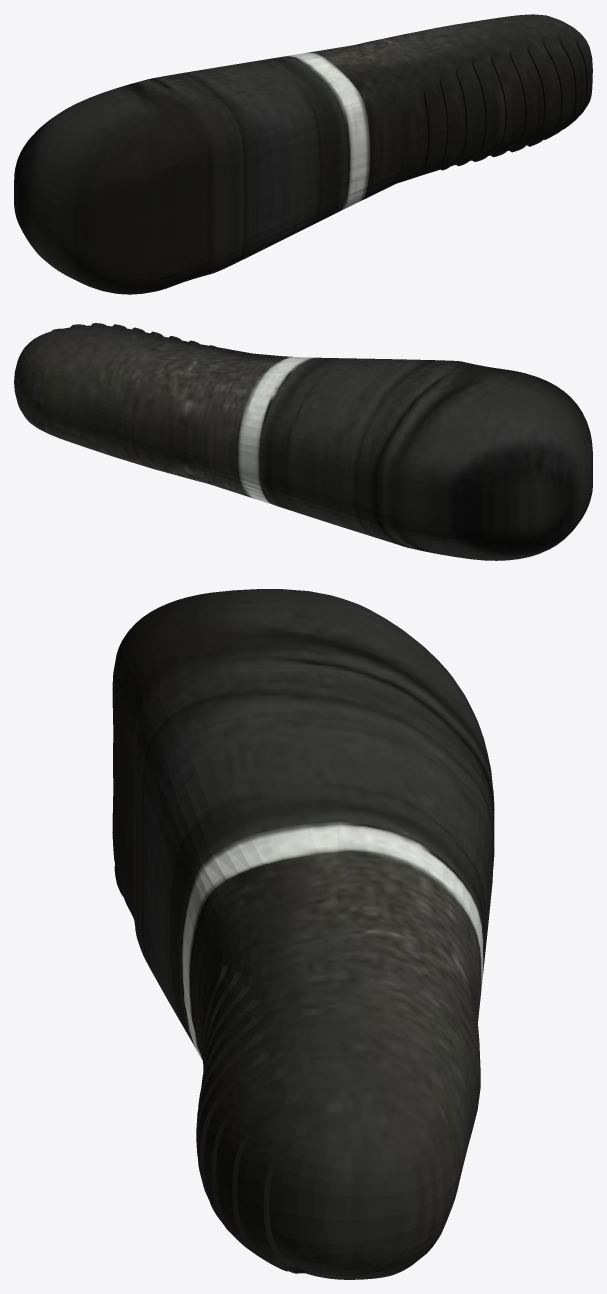
The model's file is thumb.obj.
The picture shows the model from 3 angles, top to bottom: view 1: azimuth 30°, elevation 25°; view 2: azimuth 150°, elevation 25°; view 3: azimuth 270°, elevation 25°; orthographic projection. The views are drawn at different scales.
Visible parts, largest first — view 1: Thumb; view 2: Thumb; view 3: Thumb.
Part boxes in pixels (bbox=[...]): Thumb: bbox=[14, 14, 592, 294]; Thumb: bbox=[14, 323, 592, 560]; Thumb: bbox=[112, 589, 494, 1279].
Bounding box in the file's own units: 0.0923 × 0.0266 × 0.0281.
Materials: 1 (1 with a texture image).
